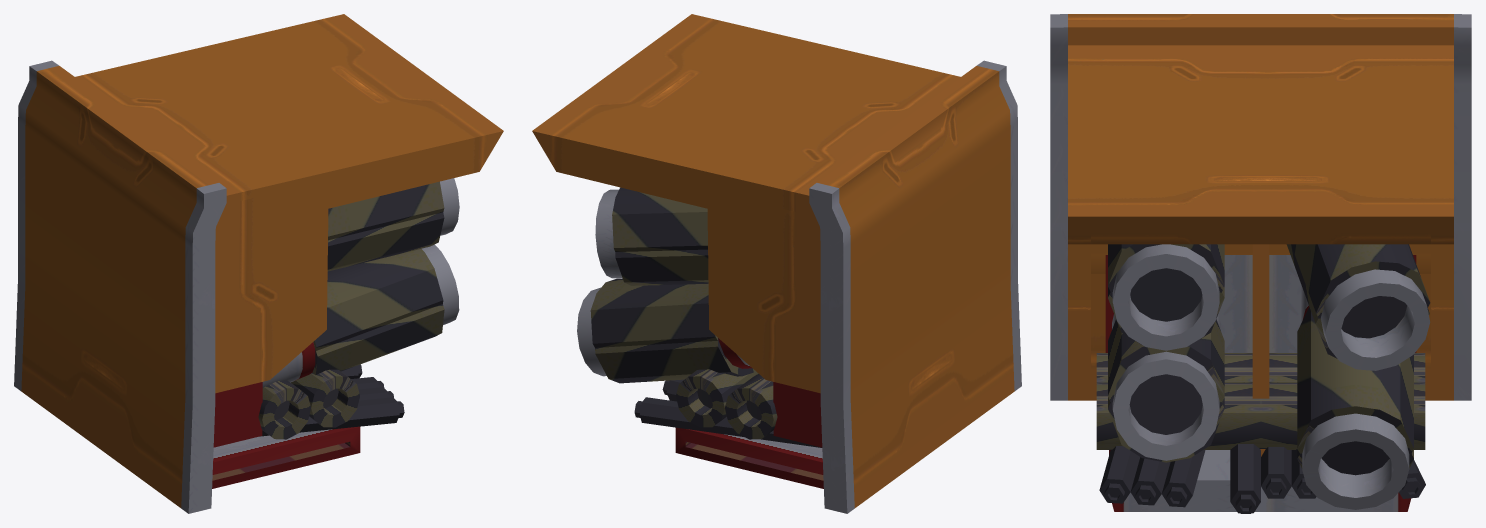
Rendered from mdlEngine.fbx.
3 views of the same model, side by side, from view 1: azimuth 30°, elevation 25°; view 2: azimuth 150°, elevation 25°; view 3: azimuth 270°, elevation 25° (orthographic). The views are drawn at different scales.
Parts seen in each view (by area): view 1: Engine; view 2: Engine; view 3: Engine.
Boxes of the visible parts, box(x1,y1,x2,y2) form: Engine: box(14, 14, 503, 513); Engine: box(532, 14, 1021, 513); Engine: box(1050, 14, 1471, 513).
Bounding box in the file's own units: 2.33 × 2.23 × 2.18.
1 material, 1 textured.
